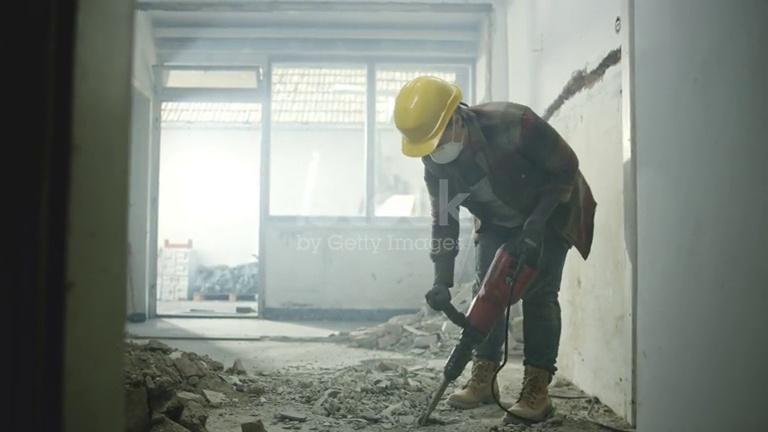helmet: (391, 73, 465, 160)
mask: (426, 139, 464, 165)
person: (391, 74, 598, 424)
